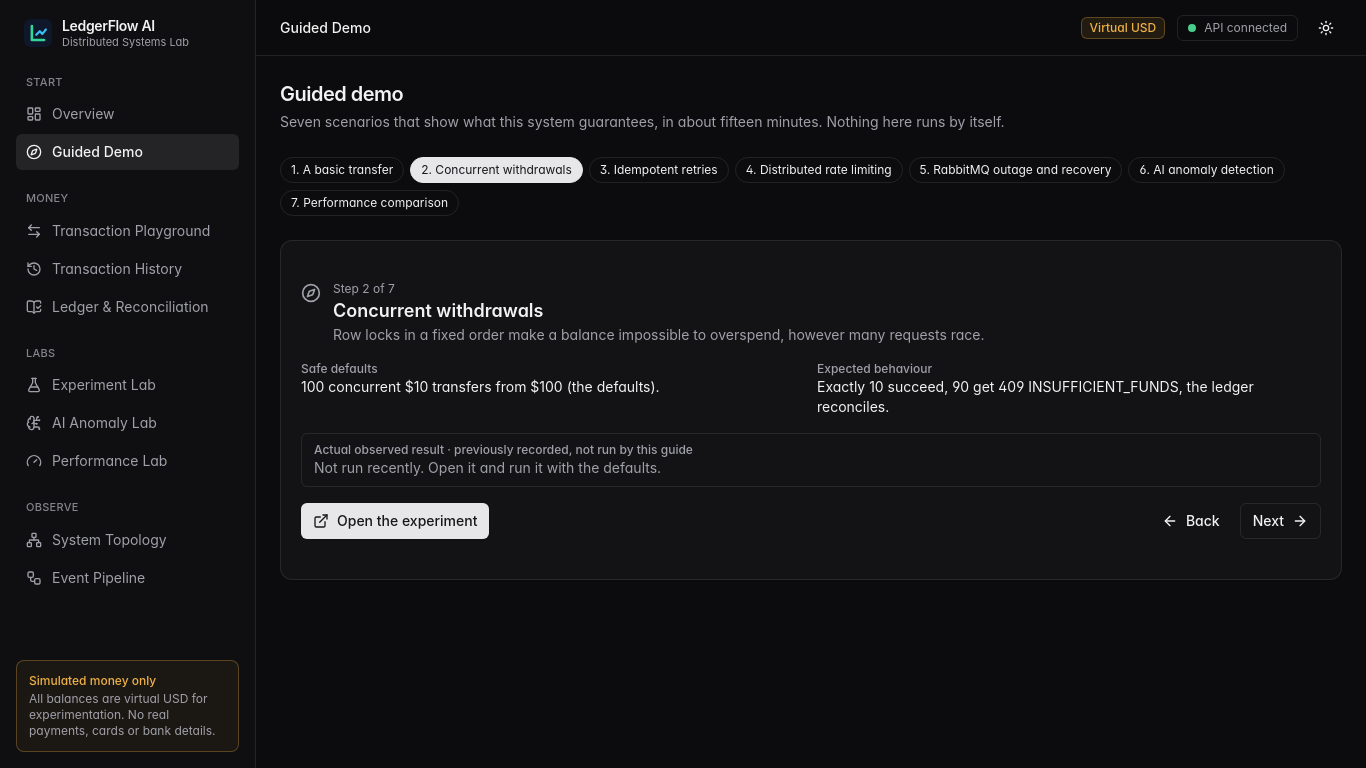
Test case: guided demo › locks the failure step when no local controller is available
Step 1. Click the button "5. RabbitMQ outage and recovery" → (1016, 170), box [909,157,1122,183]
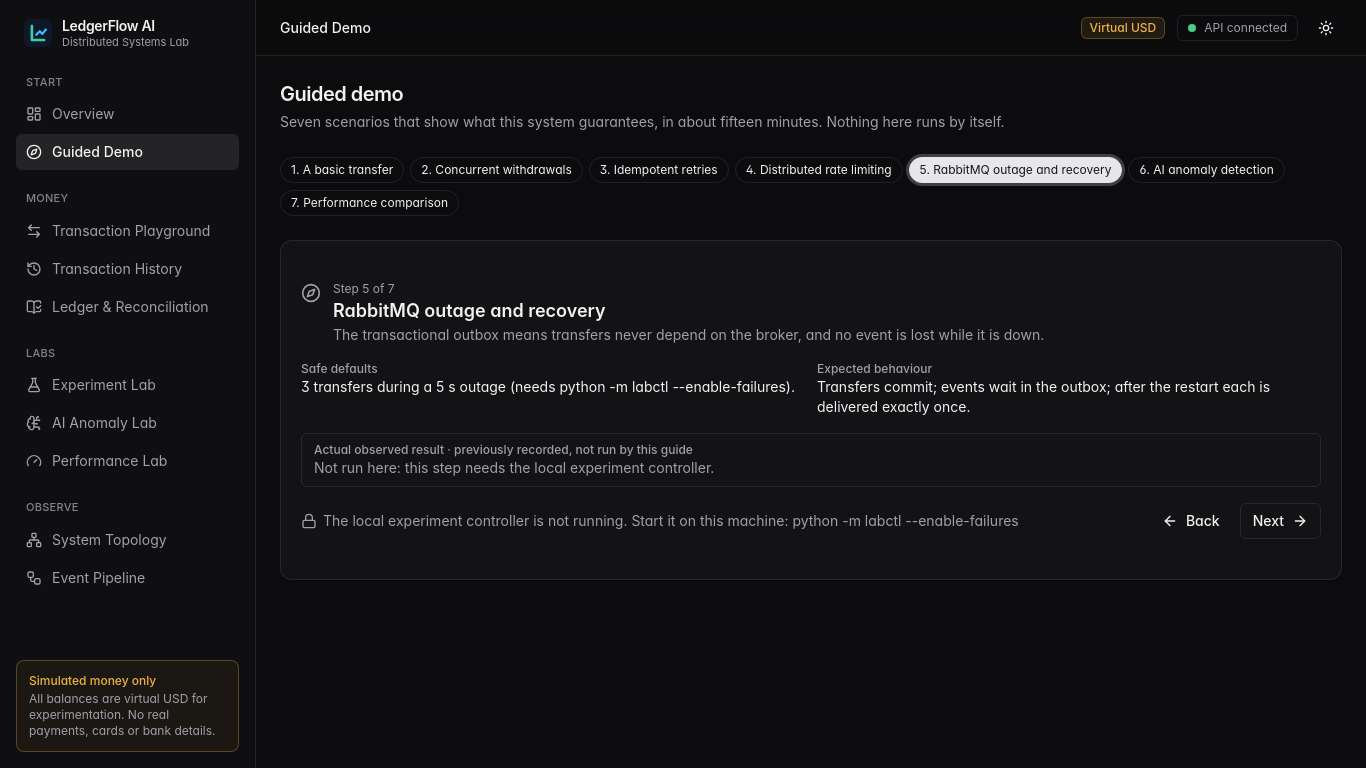
Expected: the element with test id "demo-locked" shows "python -m labctl --enable-failures", [323,512,1019,529]
